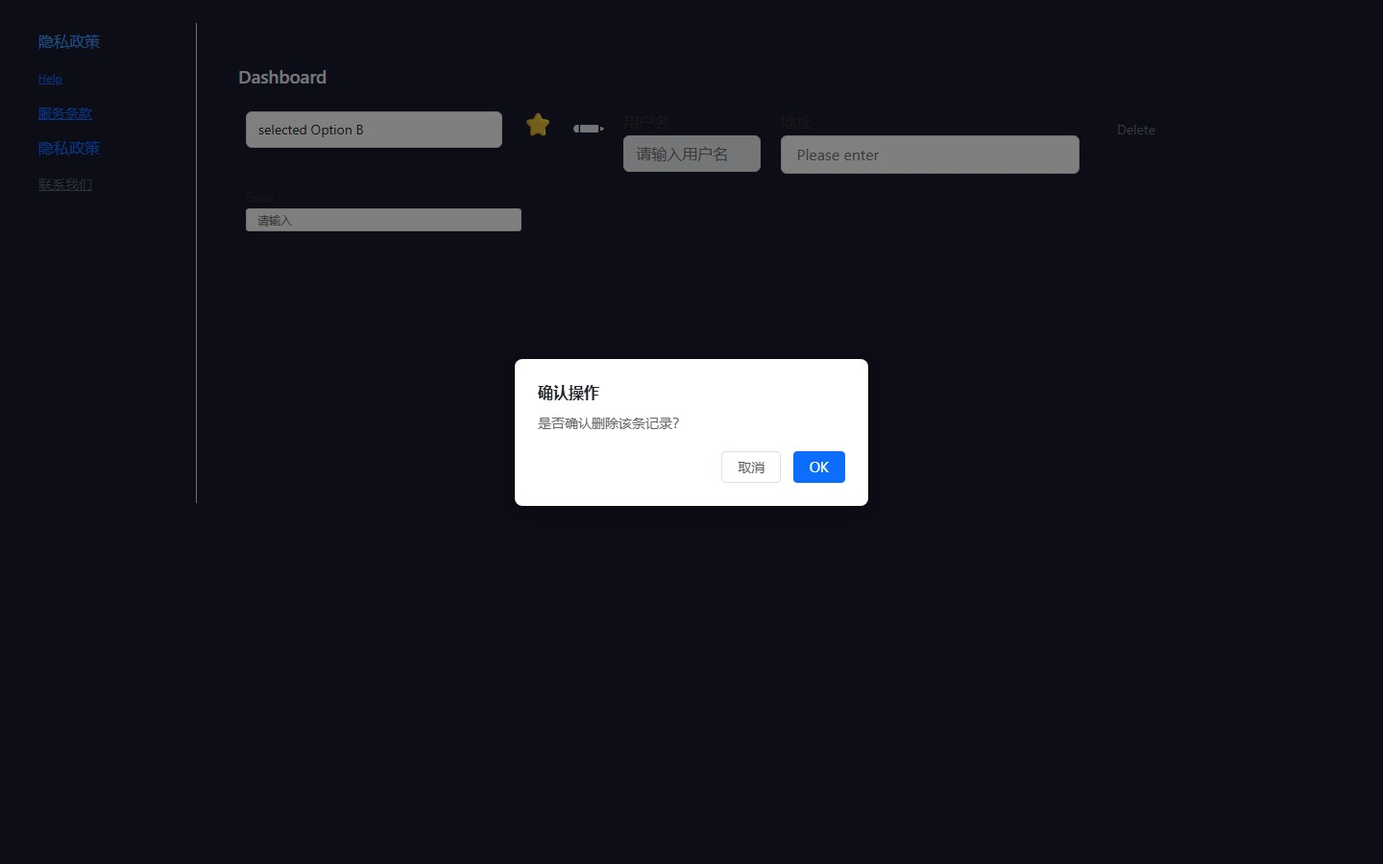button: (1099, 111, 1173, 148), (722, 451, 781, 482), (793, 451, 845, 482)
icon: (573, 111, 604, 142), (522, 111, 554, 134)
input: (780, 135, 1079, 173), (246, 208, 522, 231), (623, 135, 761, 172)
link: (38, 31, 100, 51), (38, 137, 100, 157), (38, 104, 92, 122), (38, 175, 92, 193), (38, 70, 62, 85)
modal: (0, 0, 1383, 864)
select: (246, 111, 502, 148)
